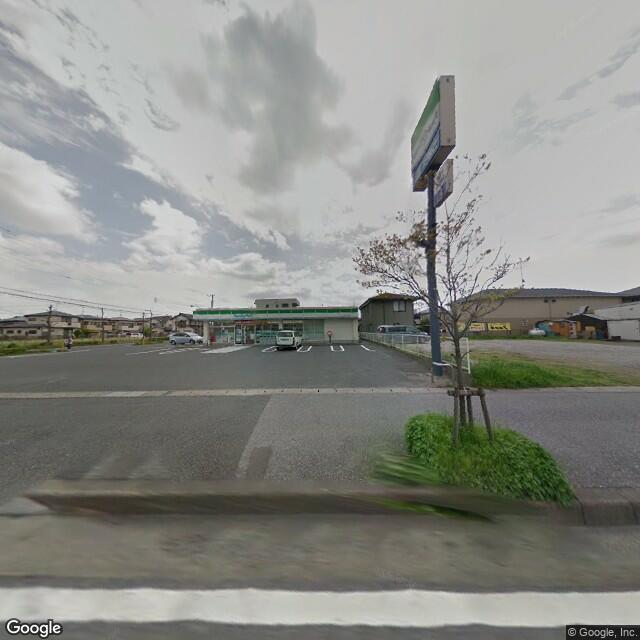family_mart: (410, 79, 444, 166), (192, 306, 361, 323)
